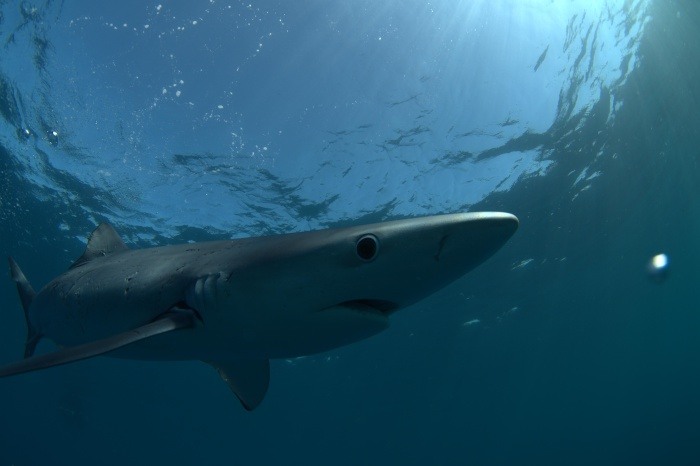Azul: (1, 189, 550, 438)
